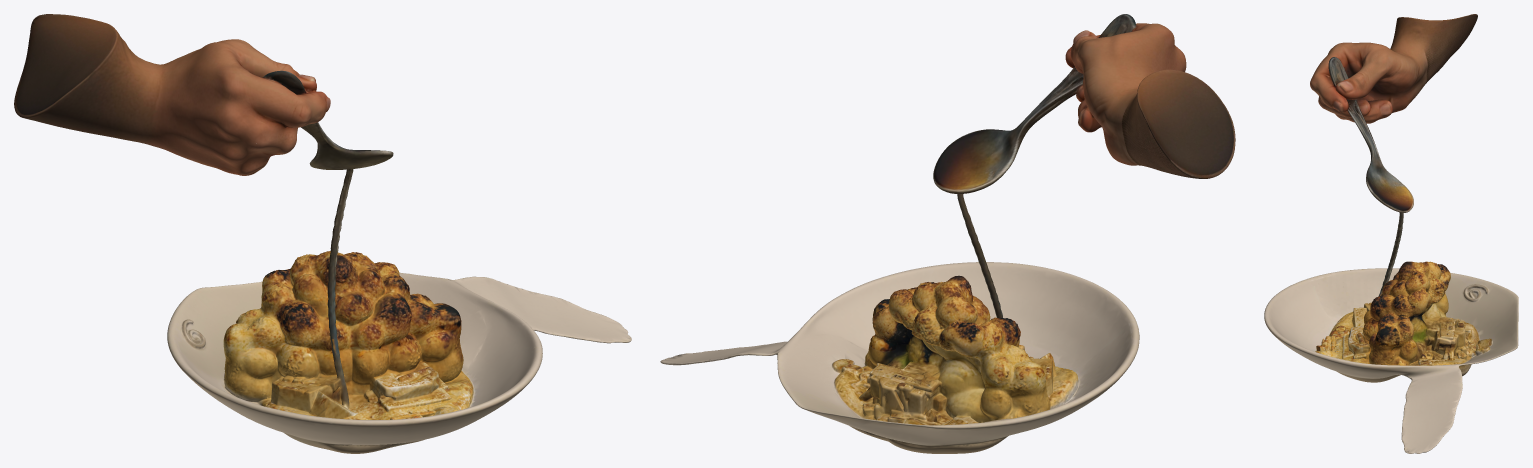
The model's file is aspas-couveflor.glb.
3 views of the same model, side by side, from view 1: azimuth 30°, elevation 25°; view 2: azimuth 150°, elevation 25°; view 3: azimuth 270°, elevation 25° (orthographic). The views are drawn at different scales.
Visible parts, largest first — view 1: tripo_node_af601649-9681-468d-9435-1e75f0de532b; view 2: tripo_node_af601649-9681-468d-9435-1e75f0de532b; view 3: tripo_node_af601649-9681-468d-9435-1e75f0de532b.
Part boxes in pixels (left/top/right/bottom): tripo_node_af601649-9681-468d-9435-1e75f0de532b: left=14, top=14, right=631, bottom=453; tripo_node_af601649-9681-468d-9435-1e75f0de532b: left=660, top=14, right=1235, bottom=453; tripo_node_af601649-9681-468d-9435-1e75f0de532b: left=1264, top=14, right=1518, bottom=453.
Bounding box in the file's own units: 0.2555 × 0.175 × 0.1468.
Materials: 1 (1 with a texture image).
